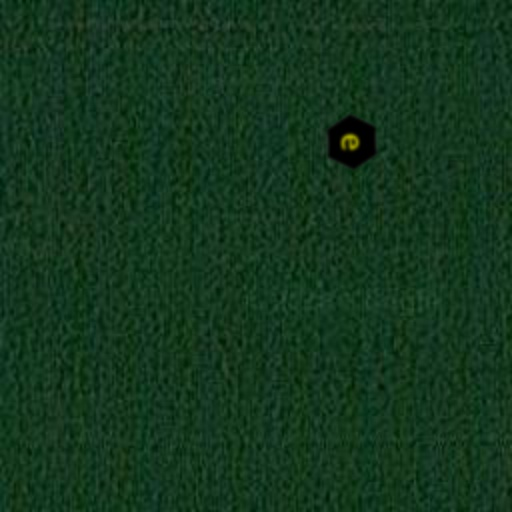hexagon: (320, 110, 384, 174)
